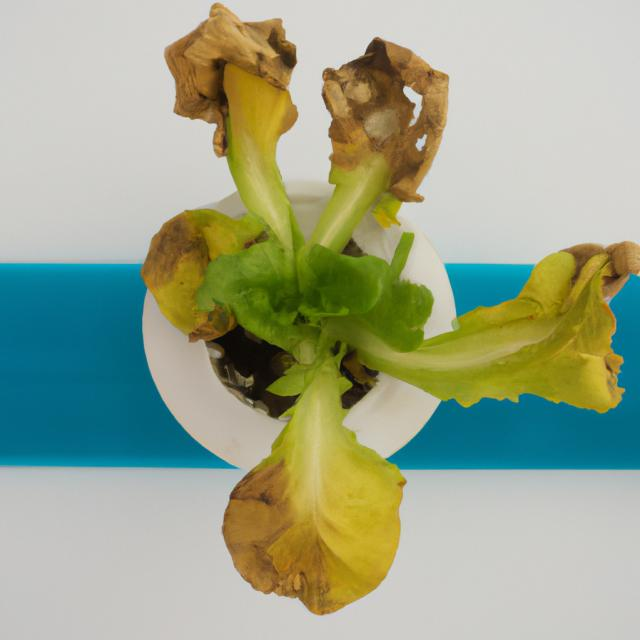-K: (134, 0, 640, 625)
